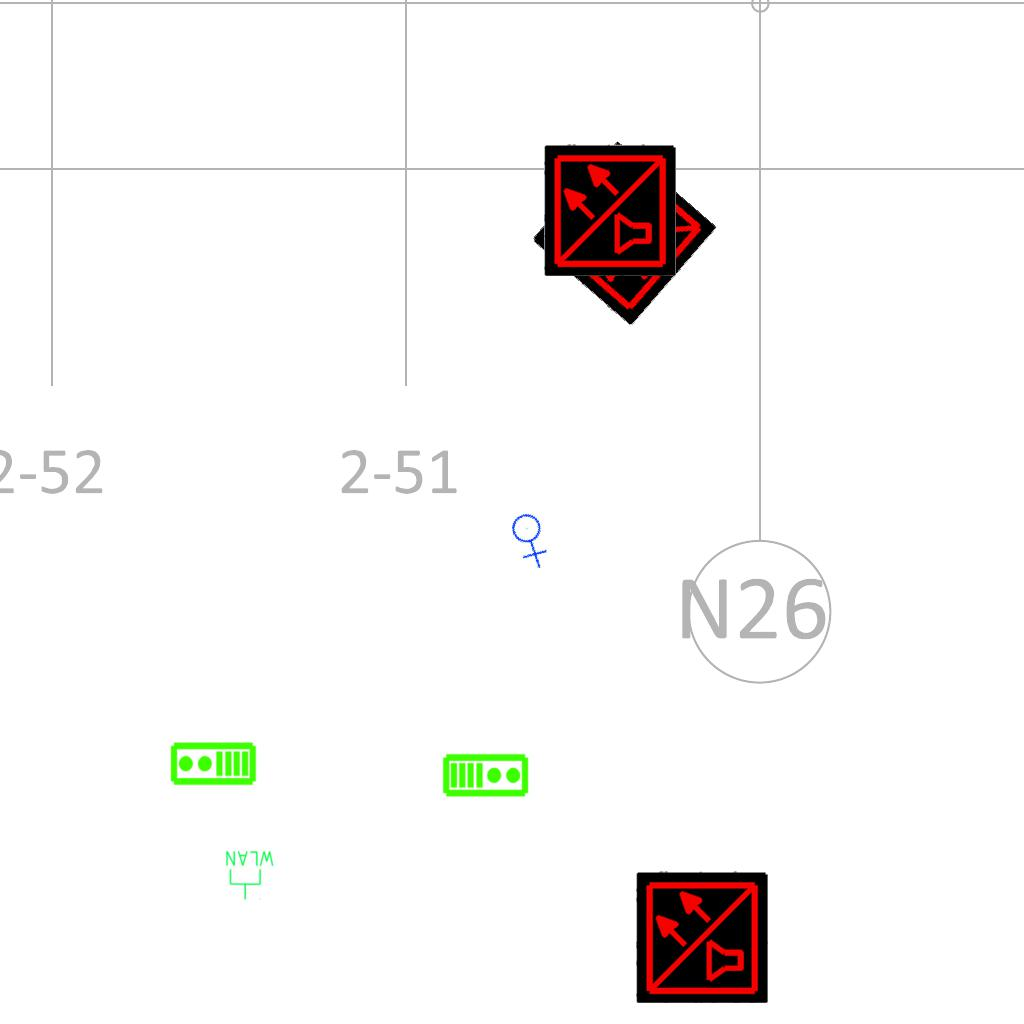Elektroanschluss_allgemein_230V_Geraeteanschlussdose_230V: (499, 505, 564, 570)
Gegensprechanlage_mit_Video: (169, 741, 257, 788), (442, 751, 530, 798)
OKW_Multisensormelder_(Kombination_optischer_Rauch-Kahlenmonoxid_Waerme-Melder): (530, 140, 718, 328), (636, 871, 768, 1003), (544, 144, 676, 276)
WLAN: (224, 849, 276, 901)
